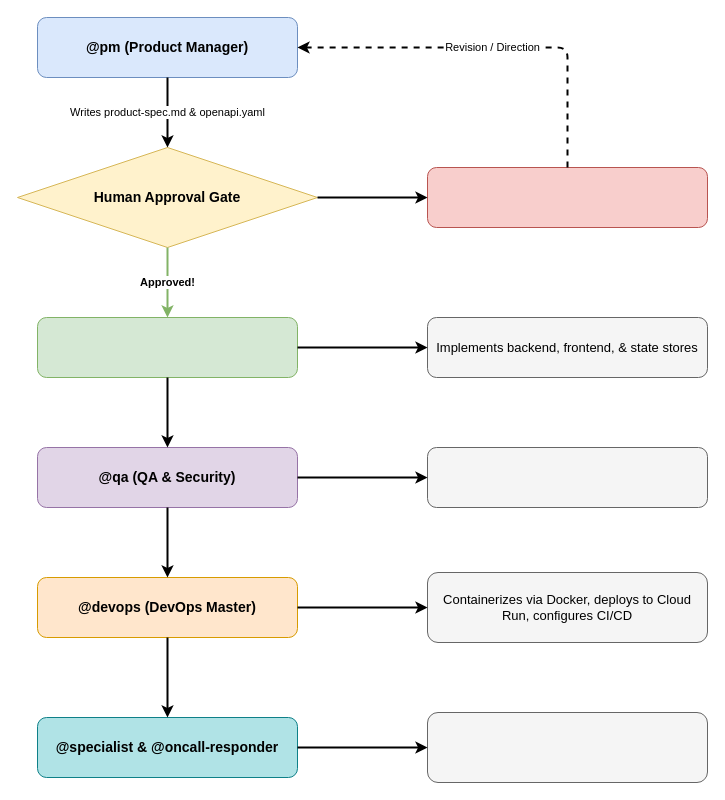
This 725x800 diagram has some shape labels left out. The shapes that lost their labels are listed below. From the top down, each one's centre as x and y in pixels, then its label:
(567,197): Interactive Steering & Feedback
(167,347): @engineer (Full-Stack)
(567,477): Verifies WebSockets, writes unit & integration tests
(567,747): Observability, user-impact alerting, and on-call agent
